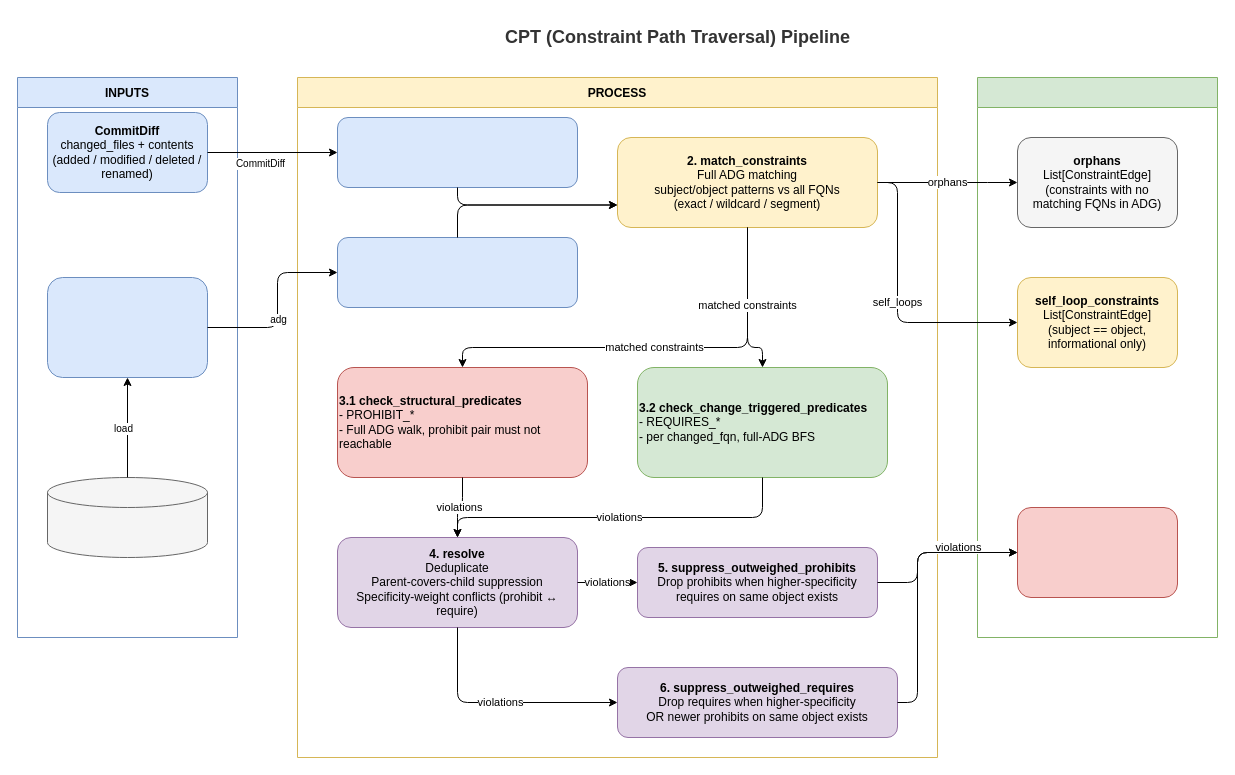
Image size: 1235x775. Some labels were removed from this diagram. The box of each missing label's shape, as (x1, y1, x2, y2) in pixels:
1. process_diff services/cpt/diff_processor.py → ChangedFQN[]: (336, 116, 578, 188)
1b. augment_adg mutate ADG with new/modified nodes + edges + CONTAINS: (336, 236, 578, 308)
ADG nodes (FQNNode) edges (IMPORTS, CALLS, ...) constraint_edges (ADR rules): (46, 276, 208, 378)
Neo4j GraphStore (persistent ADG): (46, 476, 208, 558)
OUTPUTS: (976, 76, 1218, 638)
violations List[Violation] (constraint, evidence, matched_fqn, match_status): (1016, 506, 1178, 598)
